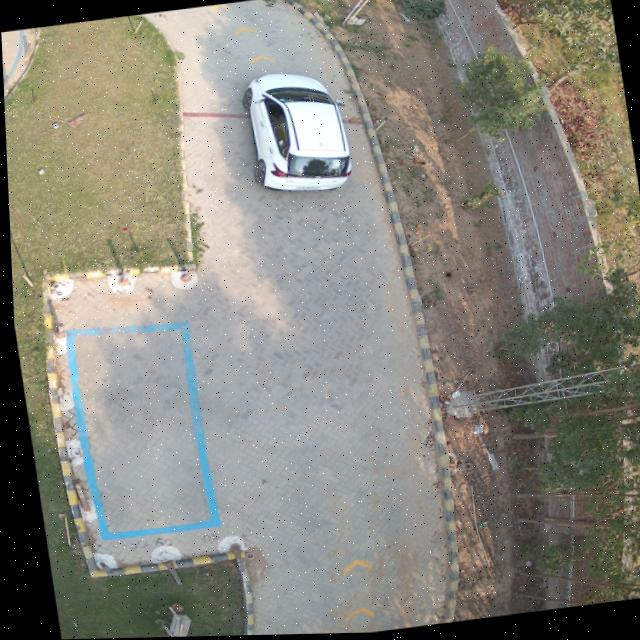car: (240, 74, 348, 192)
